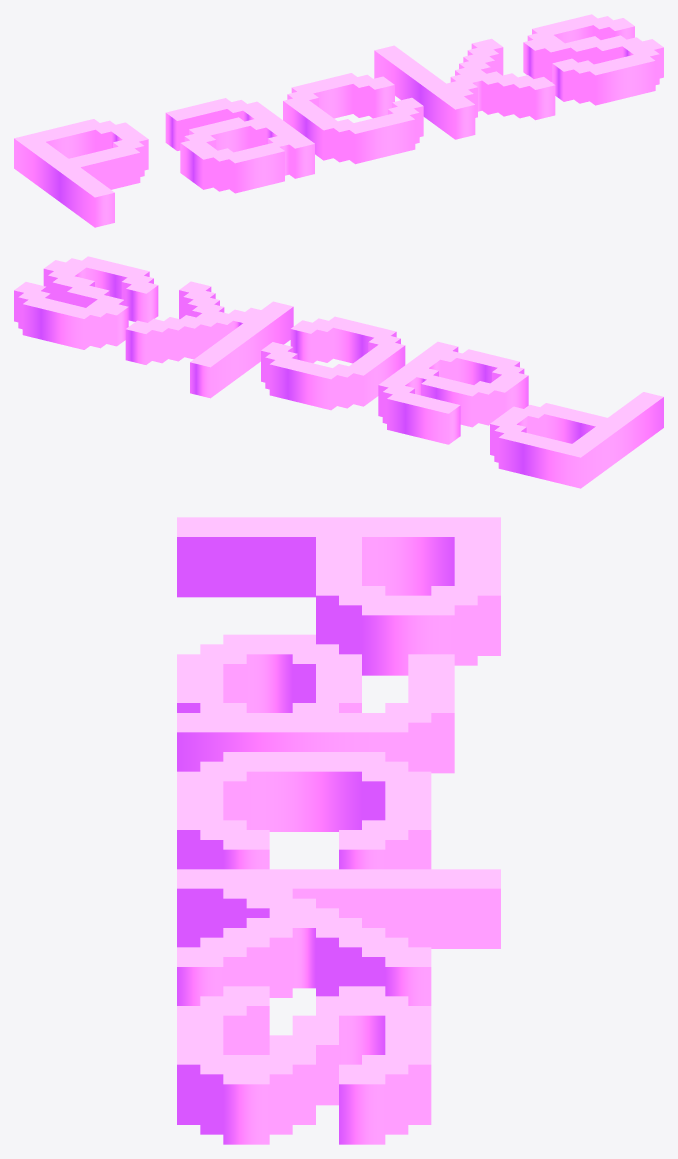
The model's file is shop.glb.
The picture shows the model from 3 angles, top to bottom: view 1: azimuth 30°, elevation 25°; view 2: azimuth 150°, elevation 25°; view 3: azimuth 270°, elevation 25°; orthographic projection. The views are drawn at different scales.
Visible parts, largest first — view 1: cards; view 2: cards; view 3: cards.
Part boxes in pixels (x1,y1,x2,y2): cards: (14, 14, 663, 227); cards: (14, 256, 663, 488); cards: (177, 517, 500, 1144).
Bounding box in the file's own units: 3.22 × 0.16 × 0.7778.
